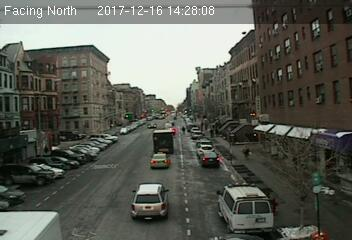car: (132, 183, 167, 221), (150, 153, 171, 170), (201, 151, 219, 166)
police: (218, 182, 273, 231)
ups: (152, 129, 174, 155)
